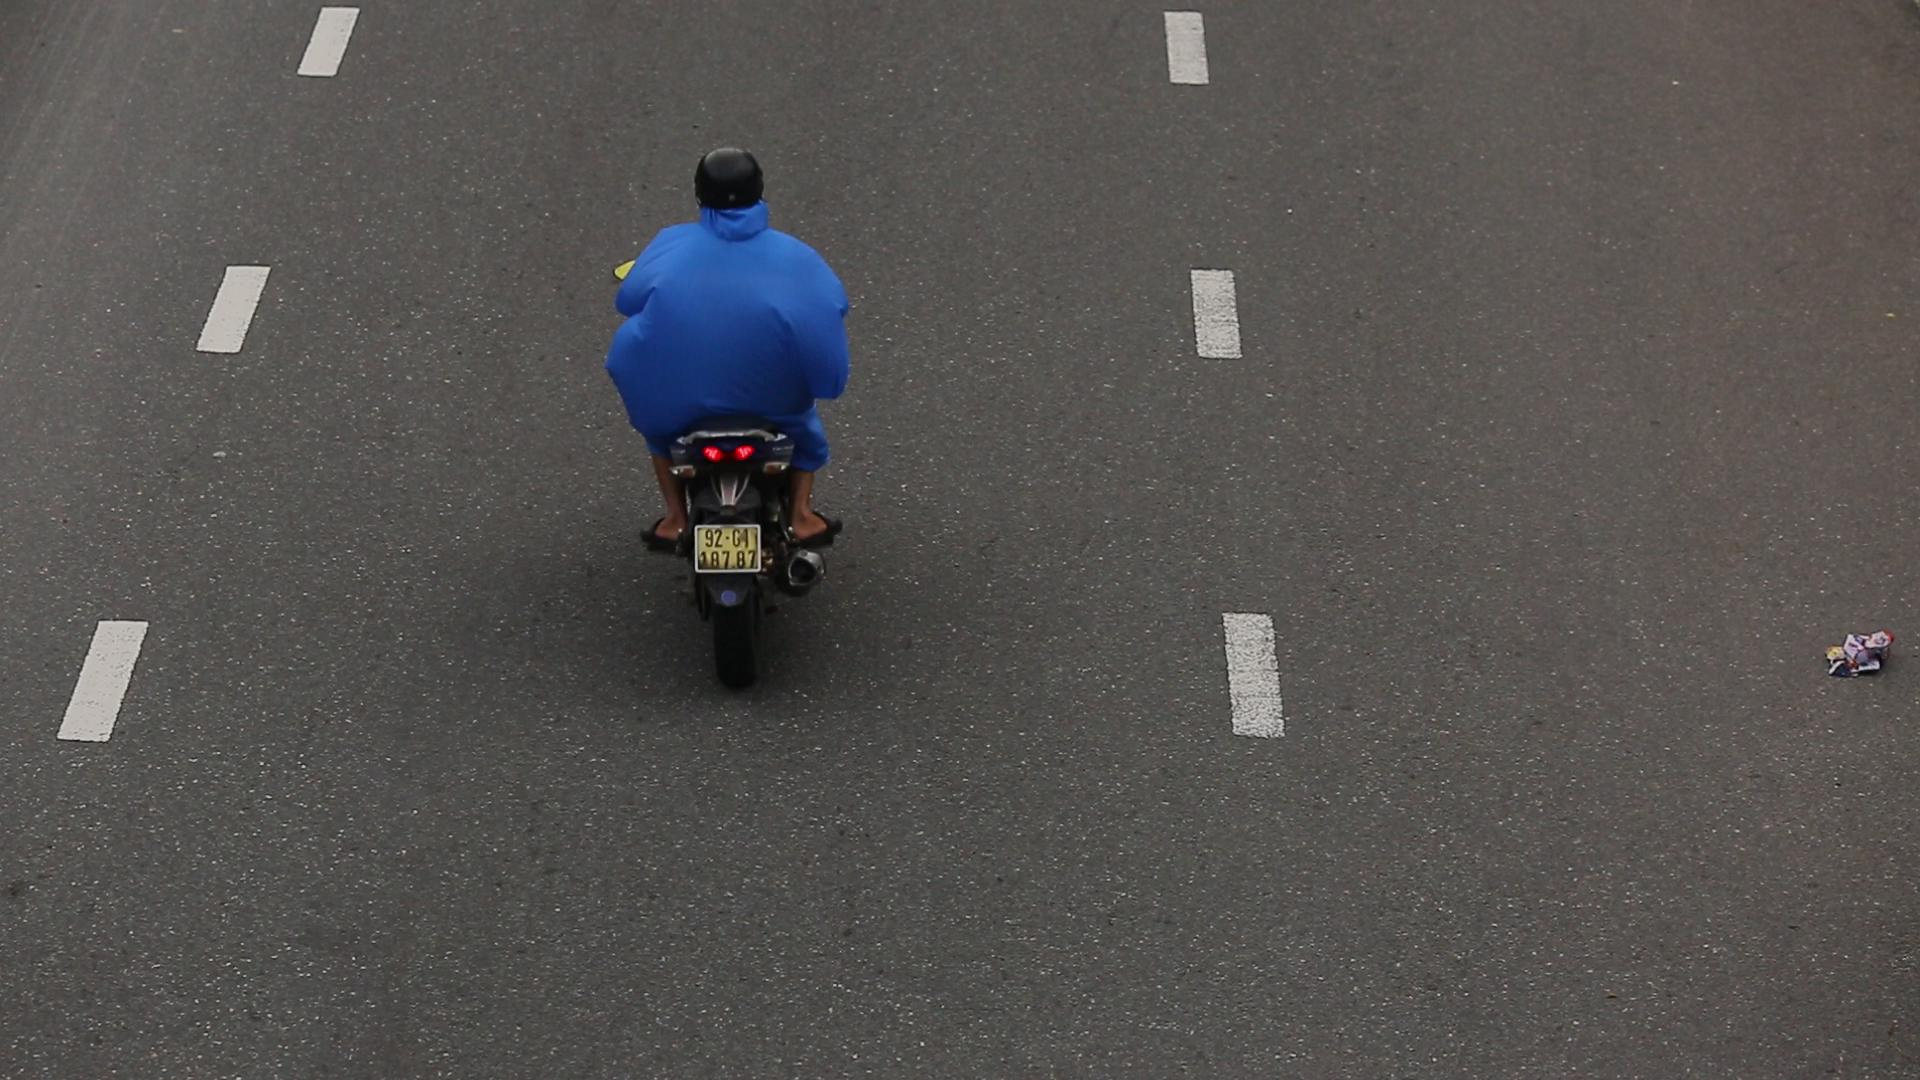motobike: (579, 124, 893, 707)
